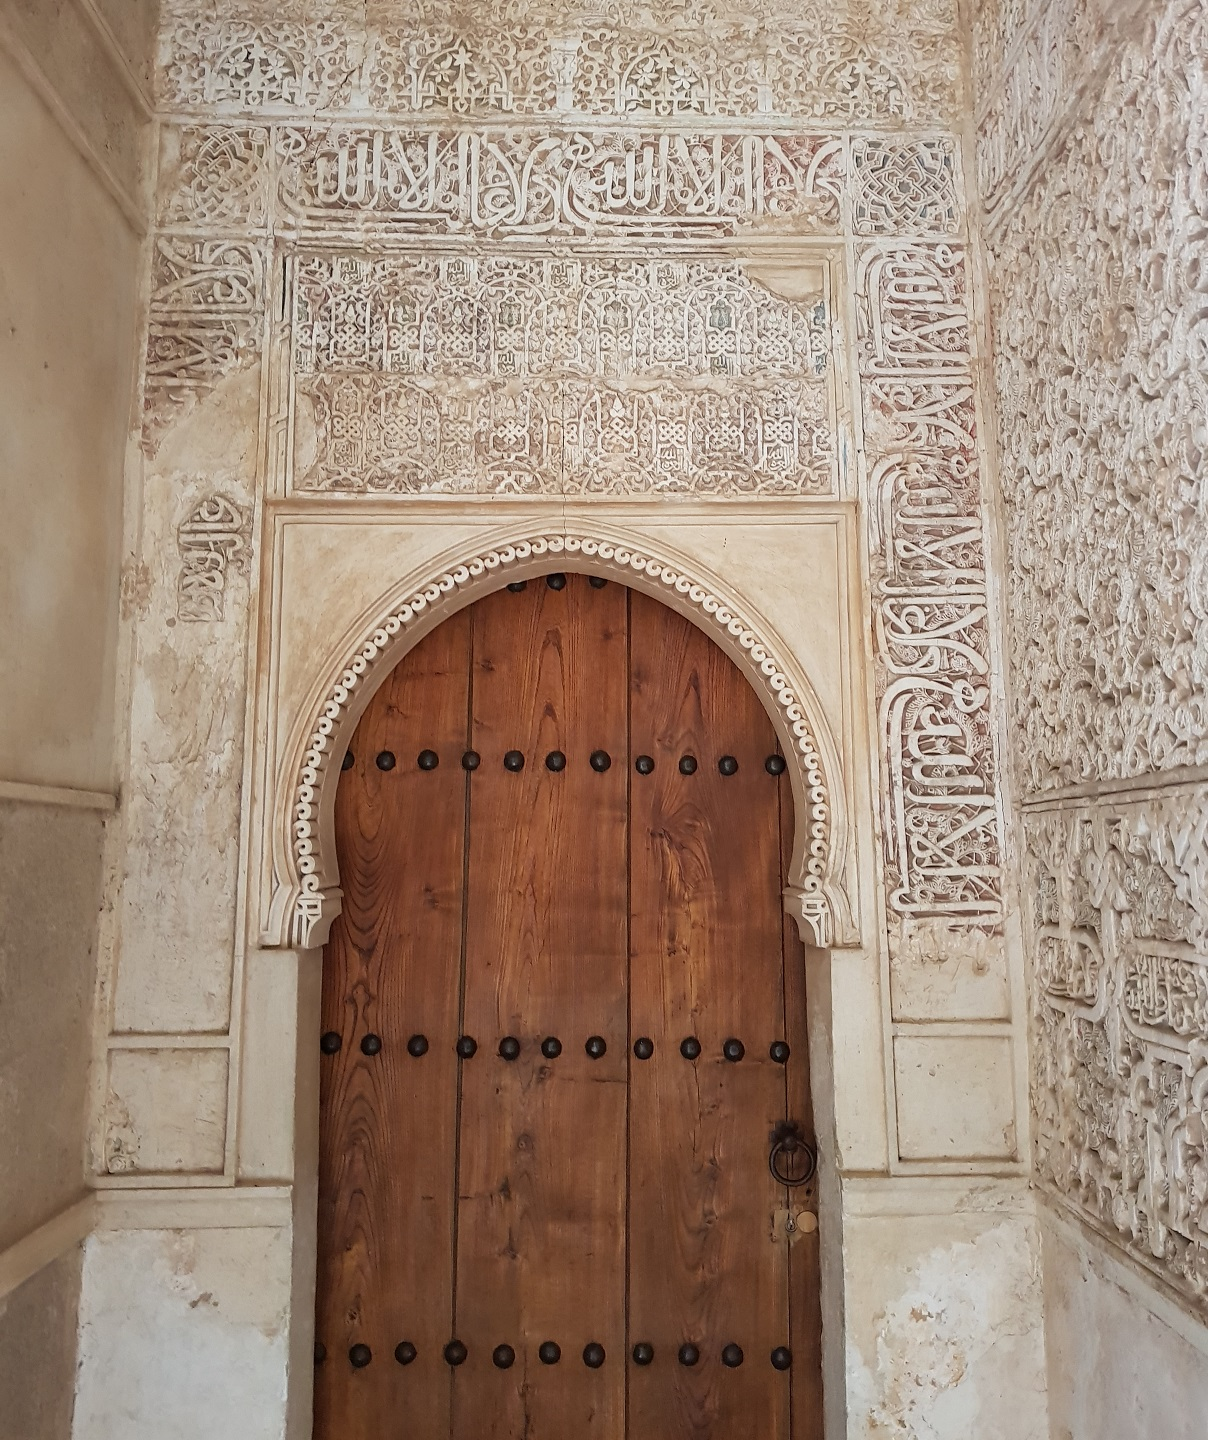arco-herradura: (271, 494, 848, 973)
